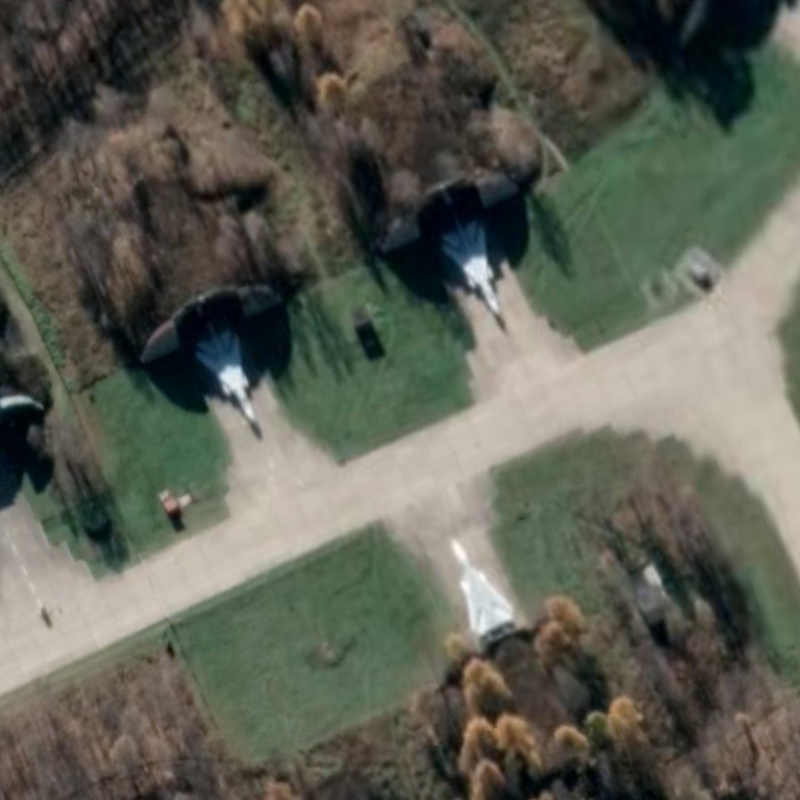A20: (448, 537, 518, 638), (438, 218, 504, 318), (192, 327, 259, 424)
